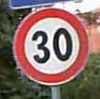limite 30: (11, 6, 88, 85)
